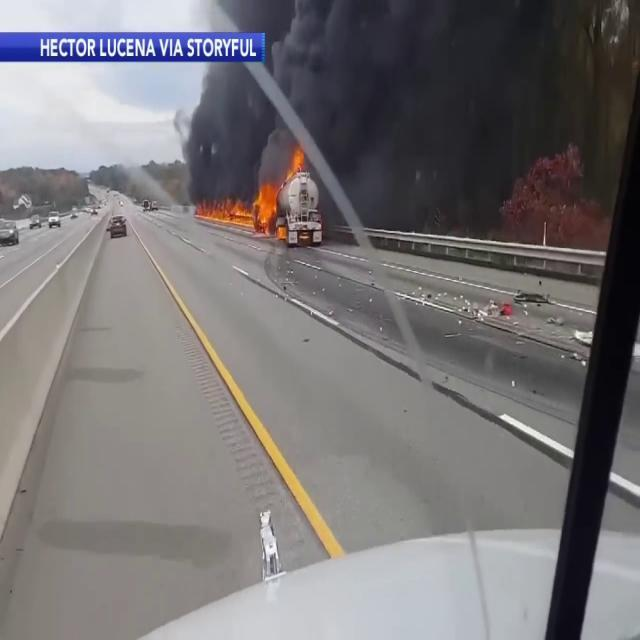Fire: (192, 184, 290, 234)
Smoke: (182, 1, 566, 210)
